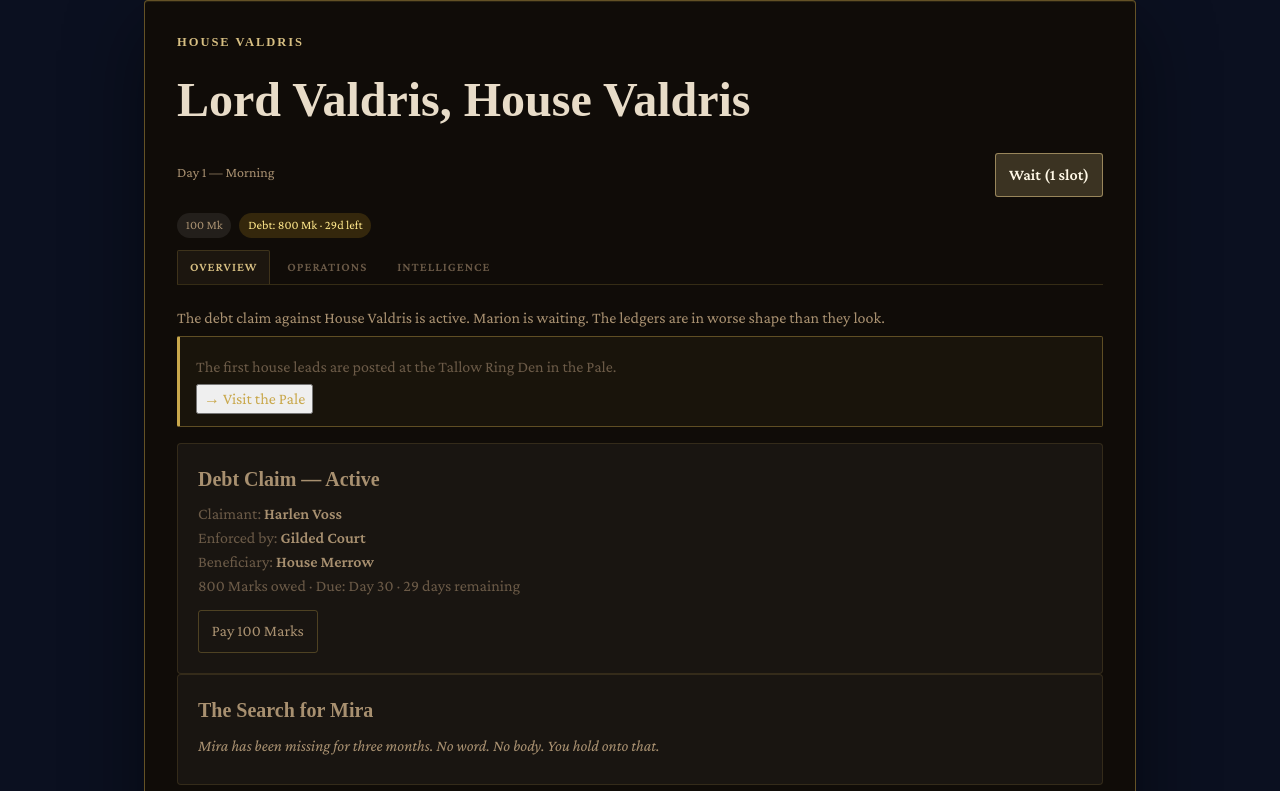
DashboardScreen › surfaces bonded kitchen service when the house is using bound food labor
Click the tab "Operations" at (327, 267), box [274,250,380,284]
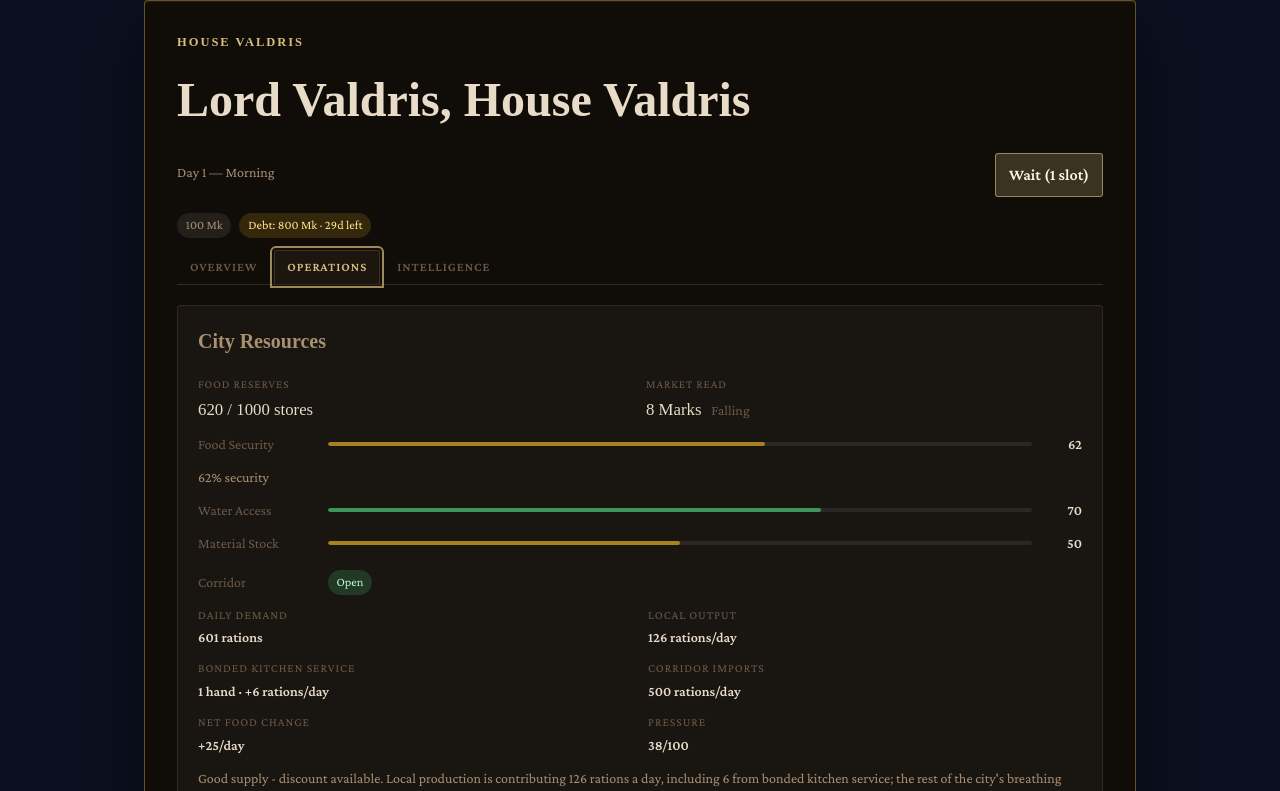
Now the text "Bonded kitchen service" is shown, box [198,662,355,676]
Now the text "1 hand · +6 rations/day" is shown, box [198,683,329,699]
Now the text "126 rations/day" is shown, box [648,630,737,646]
